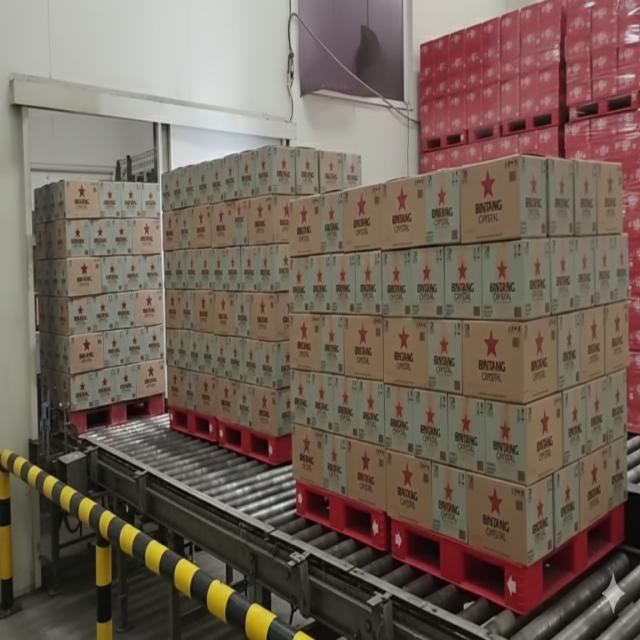pallet: (381, 145, 628, 622), (210, 119, 354, 472), (280, 184, 396, 566), (26, 150, 168, 434), (150, 150, 227, 450)
